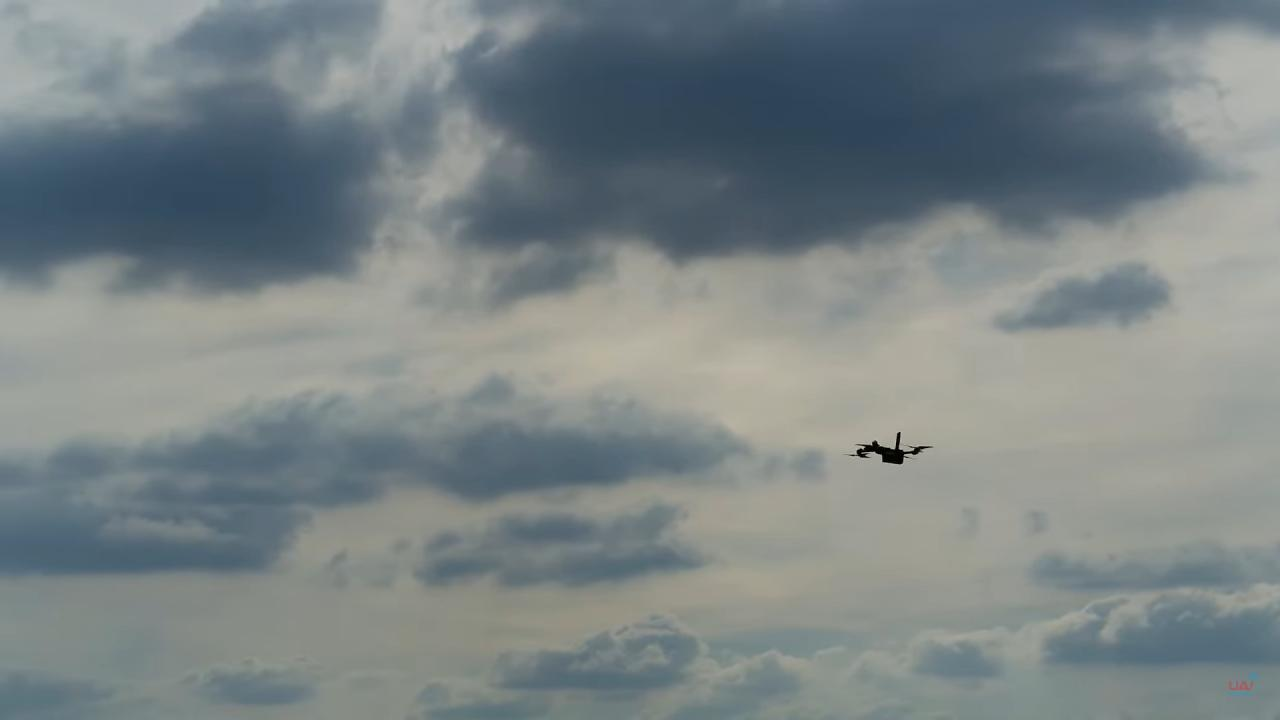Drone: (837, 419, 940, 479)
